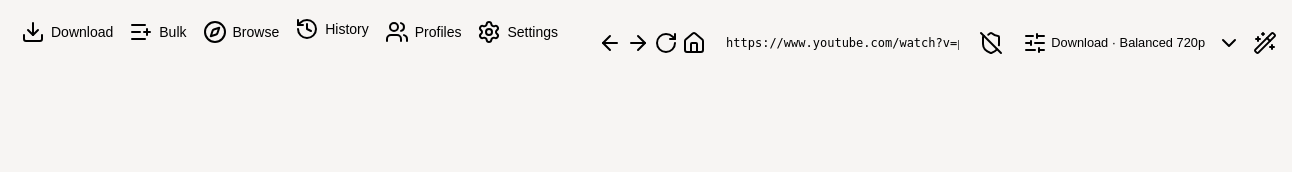
Explore address bar › Esc restores the page address and discards the edit
Replace the text in the field with test id "explore-address" with "half-typed" at [843, 43], box [716, 29, 969, 57]
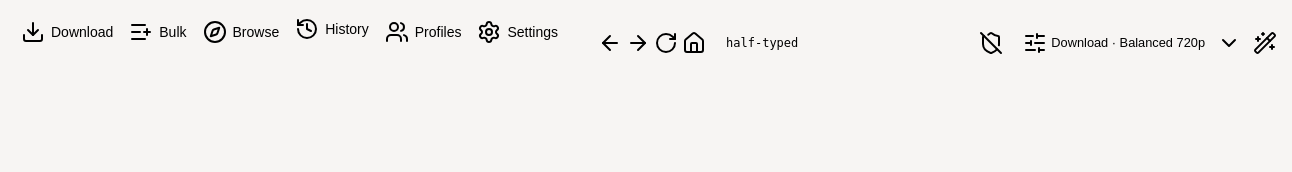
Press Escape in the field with test id "explore-address", box [716, 29, 969, 57]
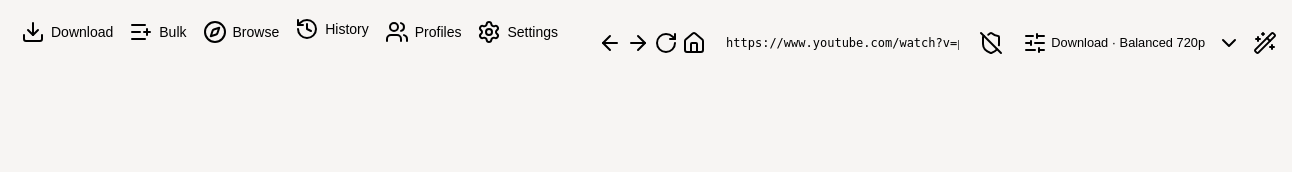
Expected: the field with test id "explore-address" holds "https://www.youtube.com/watch?v=page0000001", [716, 29, 969, 57]
